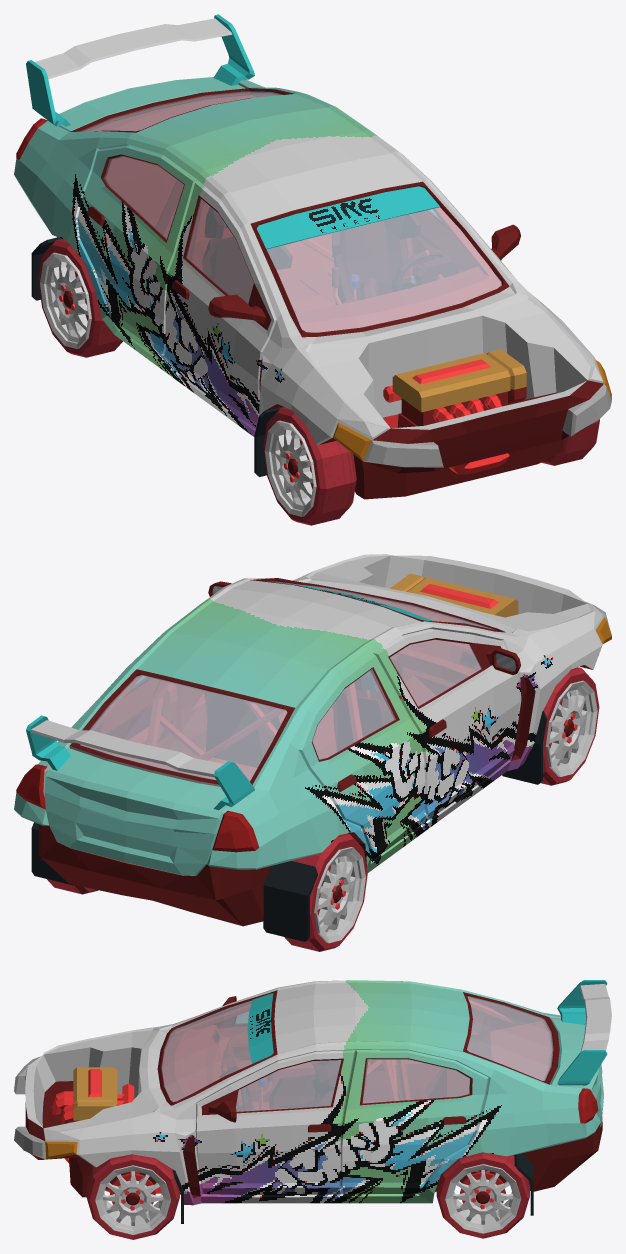
Rendered from car-rally.glb.
3 renders of one model, top to bottom at view 1: azimuth 30°, elevation 25°; view 2: azimuth 150°, elevation 25°; view 3: azimuth 270°, elevation 25°, orthographic. The views are drawn at different scales.
Parts seen in each view (by area): view 1: SM_Veh_Rally_01, SM_Veh_Rally_01_Glass_01, SM_Veh_Rally_01_Door_FR_01, SM_Veh_Rally_01_Door_RR_01, SM_Veh_Rally_01_Engine_01, SM_Veh_Rally_01_Seat_01, SM_Veh_Rally_01_Wheel_FR_01, SM_Veh_Rally_01_Spoiler_01, SM_Veh_Rally_01_Wheel_RR_01, SM_Veh_Rally_01_Windscreen_Sticker_01, SM_Veh_Rally_01_Door_RR_Glass_01, SM_Veh_Rally_01_Door_FR_Glass_01 (+5 smaller); view 2: SM_Veh_Rally_01, SM_Veh_Rally_01_Boot_01, SM_Veh_Rally_01_Door_FR_01, SM_Veh_Rally_01_Glass_01, SM_Veh_Rally_01_Door_RR_01, SM_Veh_Rally_01_Seat_01, SM_Veh_Rally_01_Wheel_RR_01, SM_Veh_Rally_01_Mudflaps_01, SM_Veh_Rally_01_Spoiler_01, SM_Veh_Rally_01_Wheel_FR_01, SM_Veh_Rally_01_Door_RR_Glass_01, SM_Veh_Rally_01_Door_FR_Glass_01 (+4 smaller); view 3: SM_Veh_Rally_01, SM_Veh_Rally_01_Door_FL_01, SM_Veh_Rally_01_Door_RL_01, SM_Veh_Rally_01_Glass_01, SM_Veh_Rally_01_Wheel_FL_01, SM_Veh_Rally_01_Wheel_RL_01, SM_Veh_Rally_01_Door_FL_Glass_01, SM_Veh_Rally_01_Door_RL_Glass_01, SM_Veh_Rally_01_Spoiler_01, SM_Veh_Rally_01_Engine_01, SM_Veh_Rally_01_Seat_01, SM_Veh_Rally_01_Door_FR_01 (+5 smaller).
Part boxes in pixels (x1,y1,x2,y2): SM_Veh_Rally_01: [14, 80, 611, 499]; SM_Veh_Rally_01_Glass_01: [81, 91, 501, 332]; SM_Veh_Rally_01_Door_FR_01: [164, 180, 276, 428]; SM_Veh_Rally_01_Door_RR_01: [77, 145, 197, 364]; SM_Veh_Rally_01_Engine_01: [383, 349, 526, 474]; SM_Veh_Rally_01_Seat_01: [202, 206, 420, 304]; SM_Veh_Rally_01_Wheel_FR_01: [263, 407, 356, 525]; SM_Veh_Rally_01_Spoiler_01: [26, 14, 254, 126]; SM_Veh_Rally_01_Wheel_RR_01: [38, 238, 122, 357]; SM_Veh_Rally_01_Windscreen_Sticker_01: [257, 186, 439, 249]; SM_Veh_Rally_01_Door_RR_Glass_01: [104, 155, 183, 239]; SM_Veh_Rally_01_Door_FR_Glass_01: [186, 199, 253, 303]; SM_Veh_Rally_01: [14, 554, 611, 926]; SM_Veh_Rally_01_Boot_01: [44, 748, 230, 875]; SM_Veh_Rally_01_Door_FR_01: [373, 629, 520, 824]; SM_Veh_Rally_01_Glass_01: [80, 581, 494, 781]; SM_Veh_Rally_01_Door_RR_01: [299, 653, 426, 860]; SM_Veh_Rally_01_Seat_01: [204, 660, 402, 767]; SM_Veh_Rally_01_Wheel_RR_01: [284, 833, 367, 951]; SM_Veh_Rally_01_Mudflaps_01: [31, 711, 547, 941]; SM_Veh_Rally_01_Spoiler_01: [26, 715, 254, 810]; SM_Veh_Rally_01_Wheel_FR_01: [541, 667, 599, 785]; SM_Veh_Rally_01_Door_RR_Glass_01: [312, 669, 395, 759]; SM_Veh_Rally_01_Door_FR_Glass_01: [390, 639, 481, 706]; SM_Veh_Rally_01: [14, 980, 602, 1205]; SM_Veh_Rally_01_Door_FL_01: [195, 1050, 355, 1194]; SM_Veh_Rally_01_Door_RL_01: [340, 1050, 488, 1194]; SM_Veh_Rally_01_Glass_01: [161, 996, 553, 1101]; SM_Veh_Rally_01_Wheel_FL_01: [86, 1154, 179, 1239]; SM_Veh_Rally_01_Wheel_RL_01: [436, 1152, 529, 1238]; SM_Veh_Rally_01_Door_FL_Glass_01: [236, 1060, 341, 1111]; SM_Veh_Rally_01_Door_RL_Glass_01: [362, 1059, 470, 1103]; SM_Veh_Rally_01_Spoiler_01: [557, 980, 611, 1085]; SM_Veh_Rally_01_Engine_01: [51, 1067, 134, 1163]; SM_Veh_Rally_01_Seat_01: [269, 1060, 340, 1108]; SM_Veh_Rally_01_Door_FR_01: [198, 996, 315, 1101].
Bounding box in the file's own units: 2.02 × 1.47 × 4.4.
Materials: 2 (1 with a texture image).
